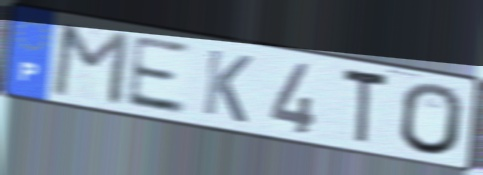4: (266, 59, 319, 136)
E: (122, 32, 191, 117)
K: (199, 46, 255, 127)
M: (48, 21, 133, 109)
O: (399, 80, 466, 158)
T: (341, 64, 392, 148)
